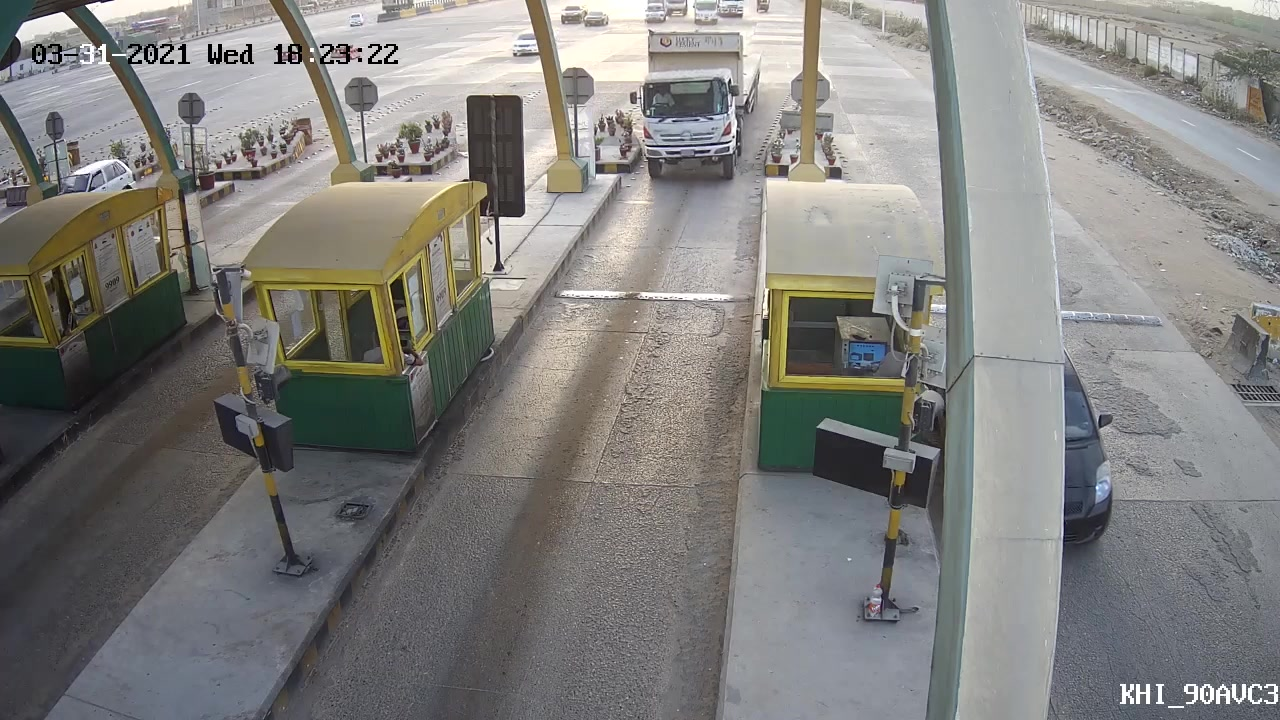F6: (625, 8, 768, 185)
